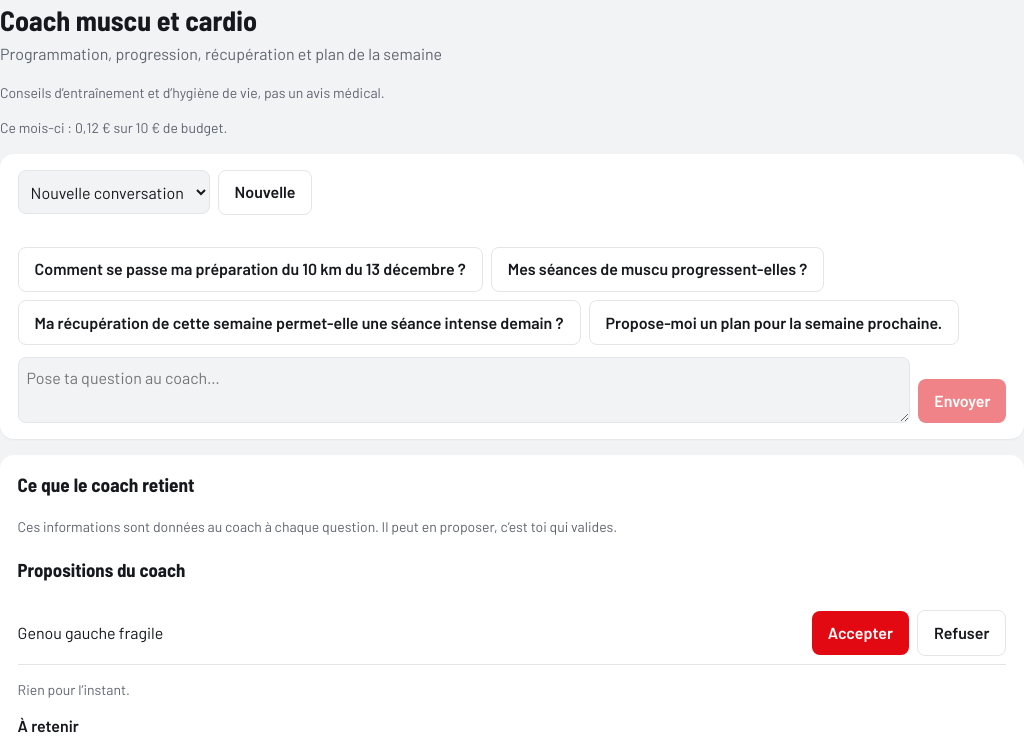
Scenario: CoachPage › lets FRANKS accept a memory proposed by the coach
The width and height of the screenshot is (1024, 742).
What coordinates should you click on to do the following:
click the button "Accepter"
I would click on:
 (860, 633)
Its box is [812, 611, 909, 655].
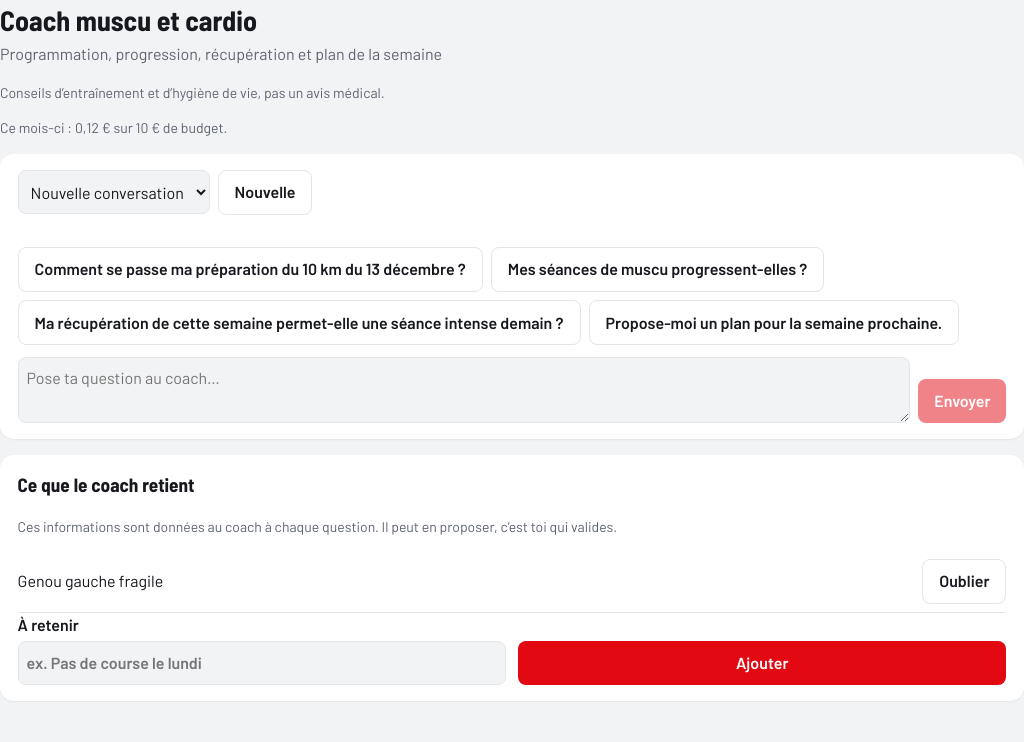
Now the button with aria-label "Oublier « Genou gauche fragile »" is shown, box [922, 559, 1006, 604]
